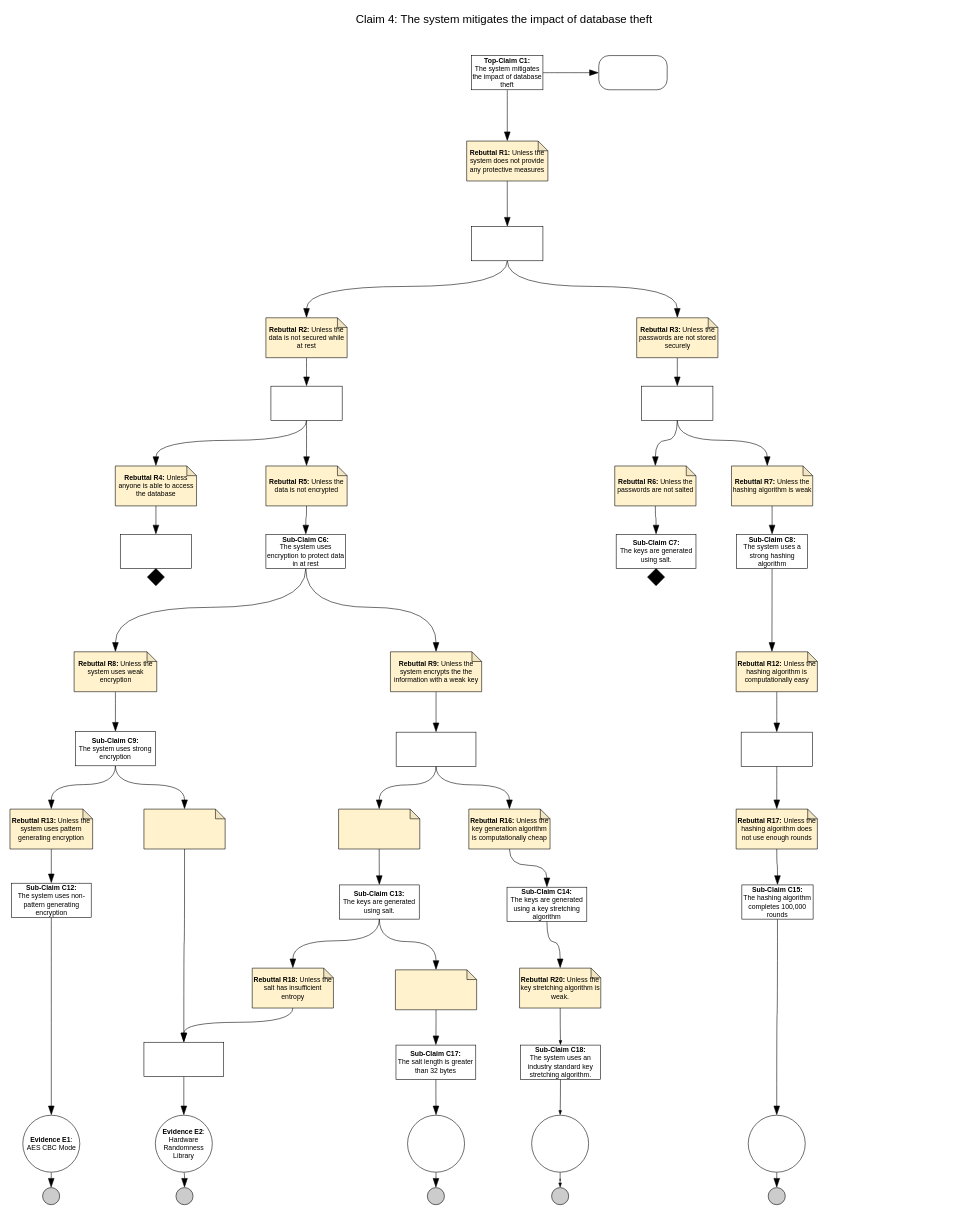
Some shapes in this 958 by 1215 pixel diagram are drawn without their labels. Here are the shapes that lost their labels. From the top down, the centre of each, then its label:
pixel 632 72: Context CT1: Databases contain sensitive user content
pixel 507 243: Sub-Claim C2: The system uses protective measures
pixel 306 403: Sub-Claim C3: The system properly secures data at rest
pixel 677 403: Sub-Claim C4: The system hashes password
pixel 156 551: Sub-Claim C5: The system ensures proper user authentication
pixel 436 749: Sub-Claim C10: The system uses strong key
pixel 776 749: Sub-Claim C11: The system uses computationally challenging algorithm
pixel 184 829: Rebuttal R14: Unless system generated ciphertext has low entropy.
pixel 379 829: Rebuttal R15: Unless the key is not salted
pixel 436 989: Rebuttal R19: Unless the salt is an insufficient length.
pixel 183 1059: Sub-Claim C16: The system uses encryption with high entropy.
pixel 436 1143: Evidence E3 : Source Code Review
pixel 560 1143: Evidence E4 : RFC 8018 Key Stretching Algorithm
pixel 776 1143: Evidence E5 : Source Code Review
